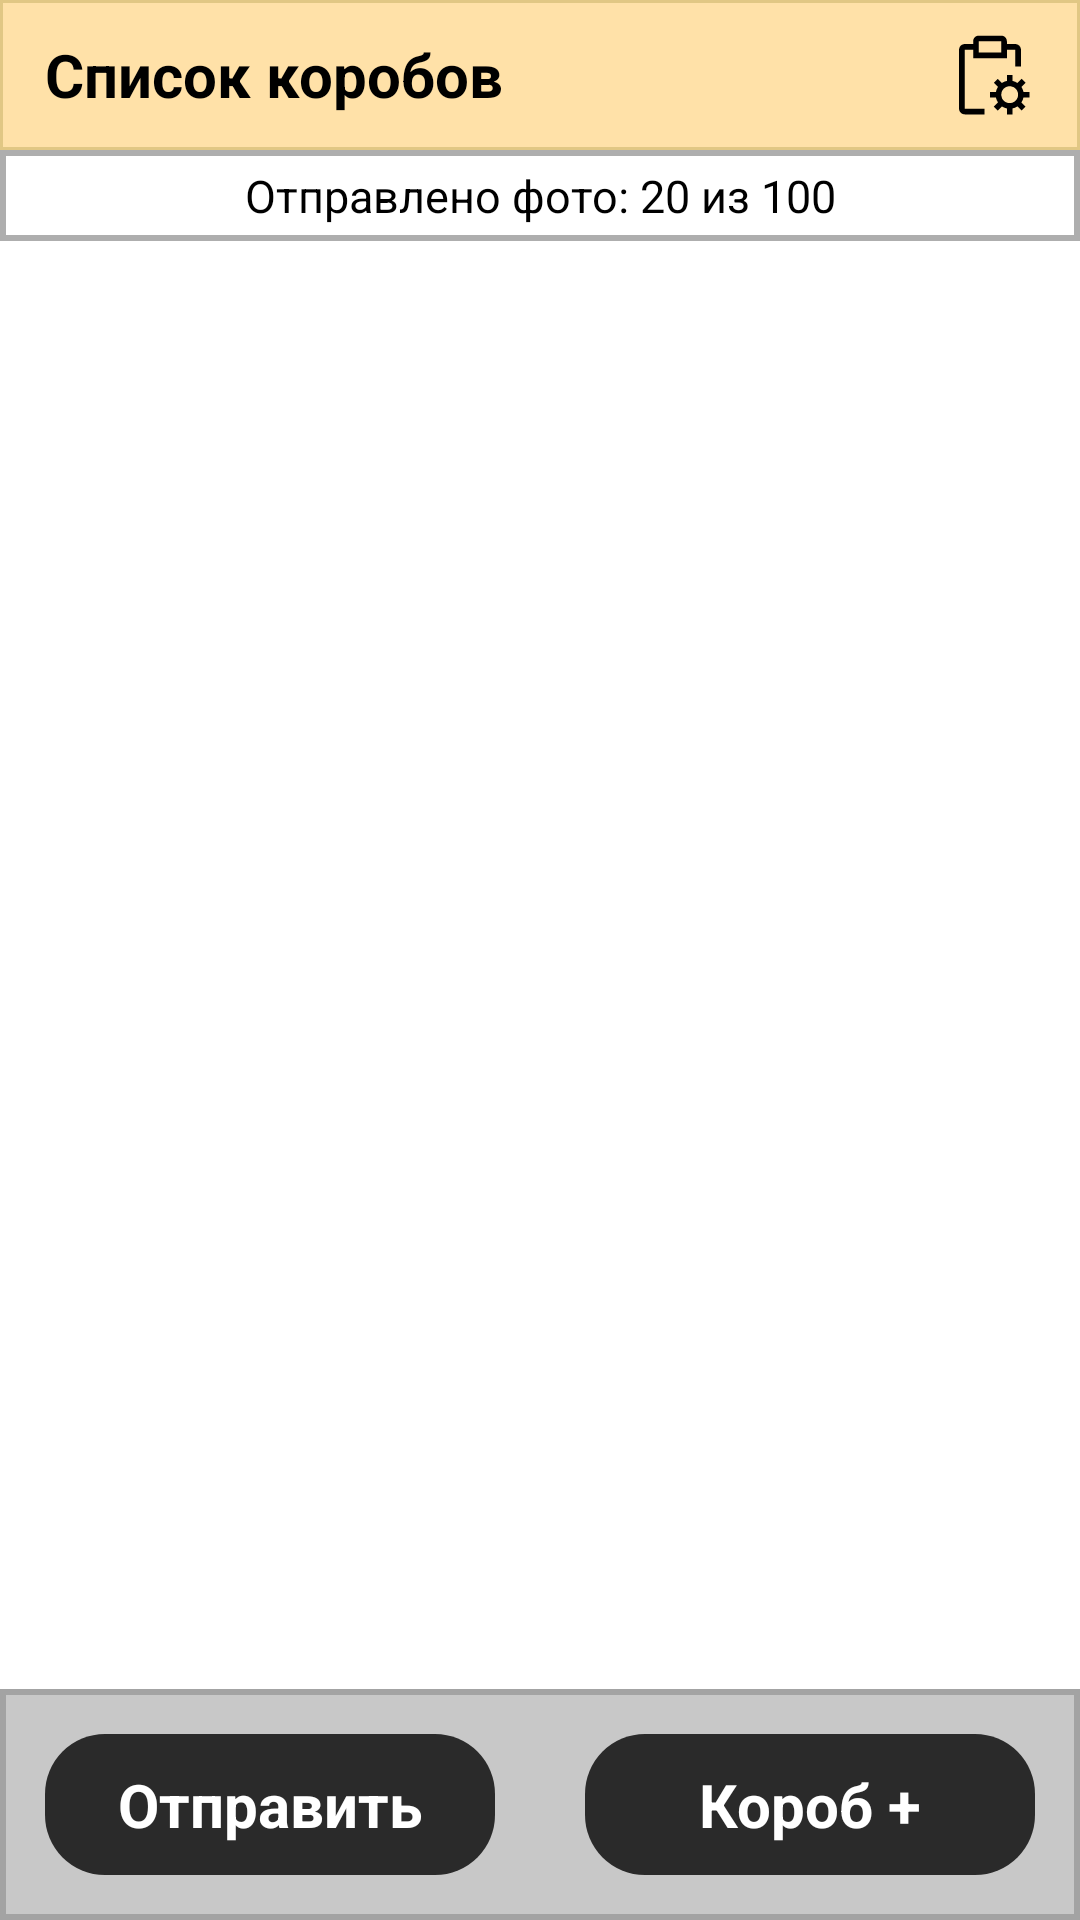

Icon click points for this 1080 x 1920 phone screenshot, format [x,y]:
task: [994,75]
